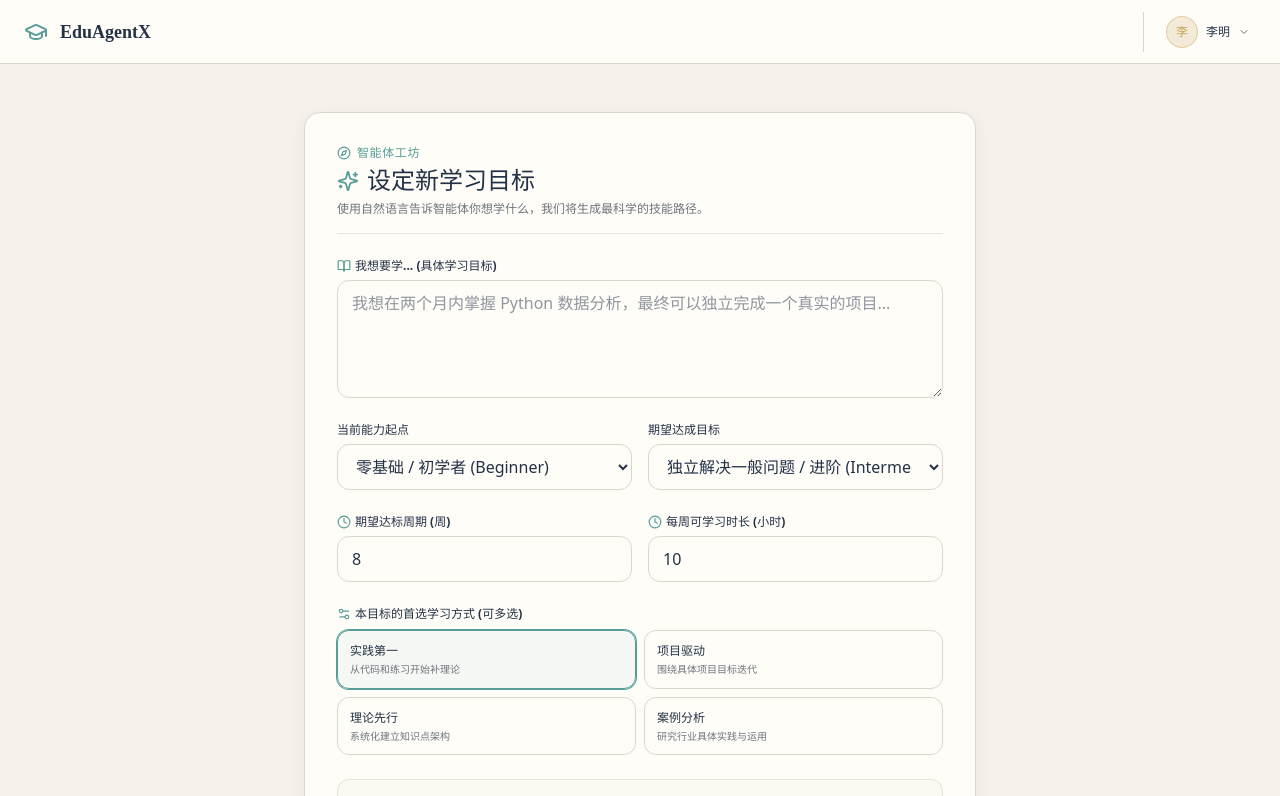
Coverage Boost: GoalCreatePage interactions › should show error toast when goal creation API fails
expect the heading "设定新学习目标" is shown: met, box [337,168,535,194]
Type "学习 React 高级模式和 Hooks 最佳实践" into the text box with placeholder "我想在两个月内掌握 Python 数据分析，最终可以独立完成一个真实的项目..." at (640, 339), box [337,280,943,398]
(page scrolled)
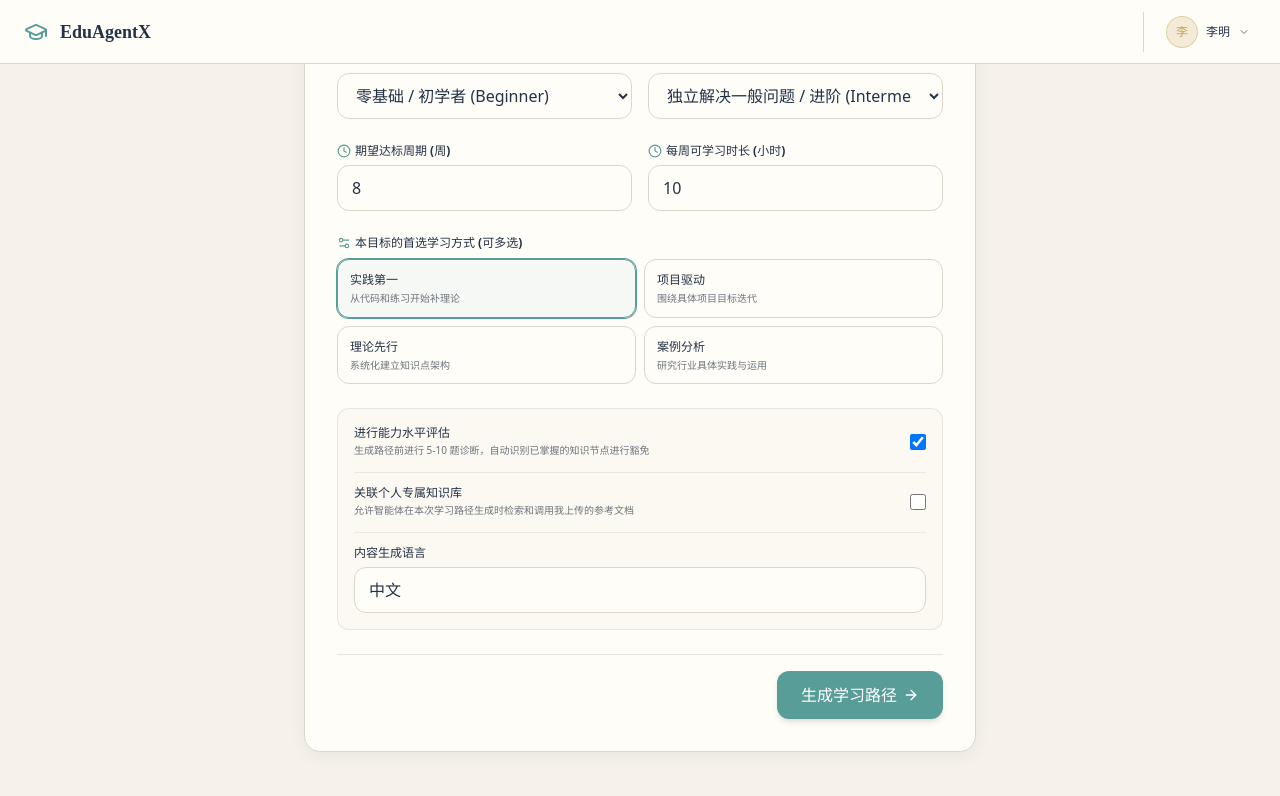
Click the button "生成学习路径" at (860, 695), box [777,671,943,719]
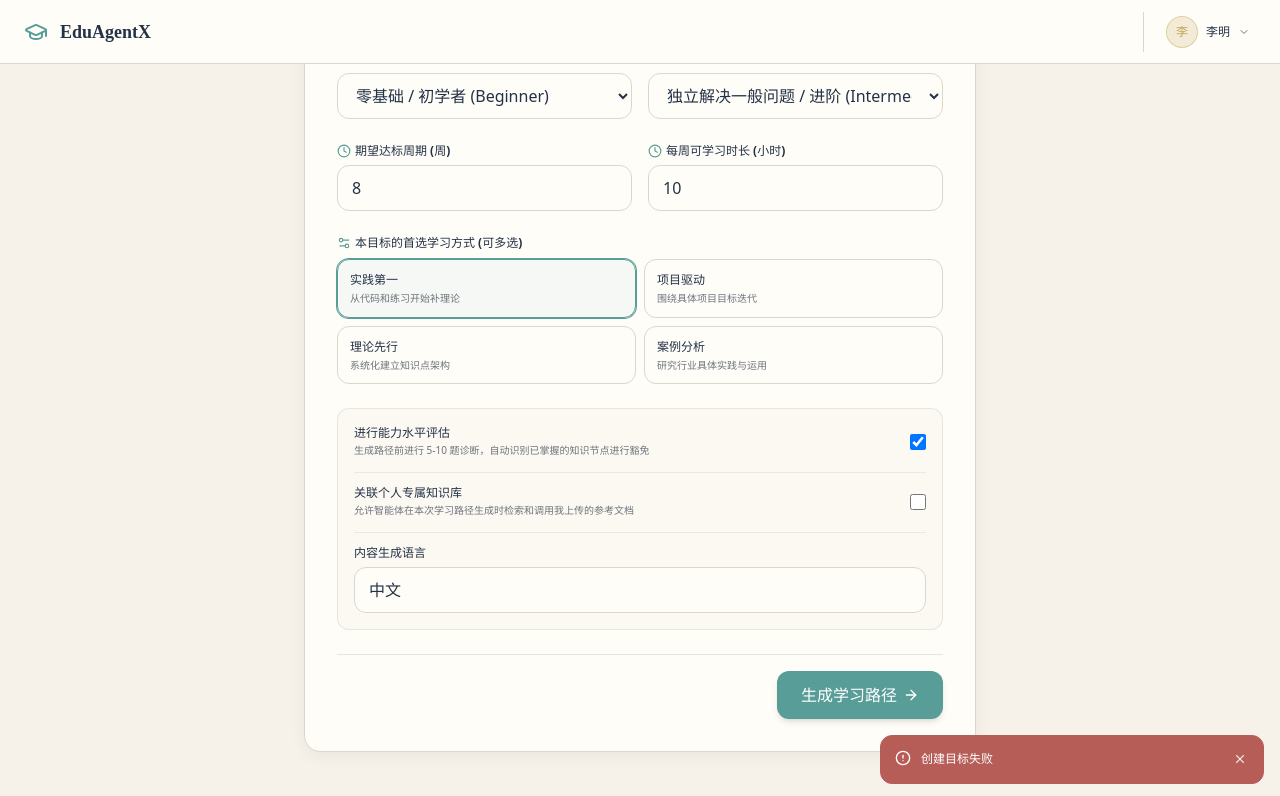
expect the text "创建目标失败" is shown: met, box [921,752,993,766]
